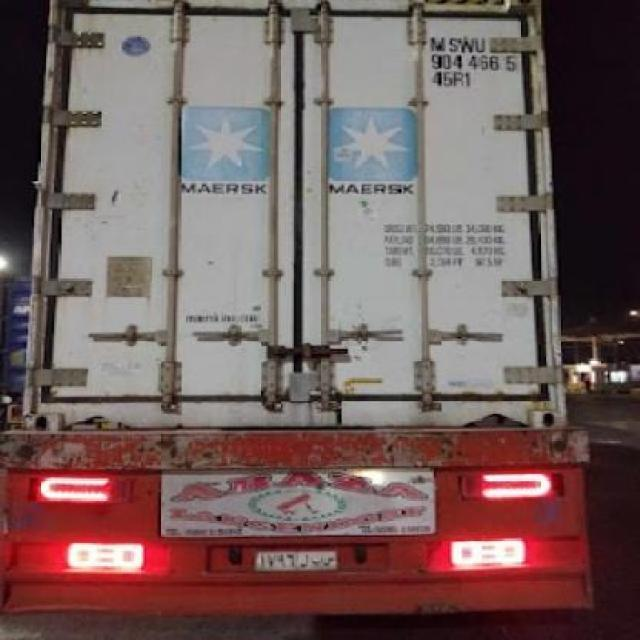ISO: (428, 70, 472, 90)
container_number: (428, 33, 520, 72)
